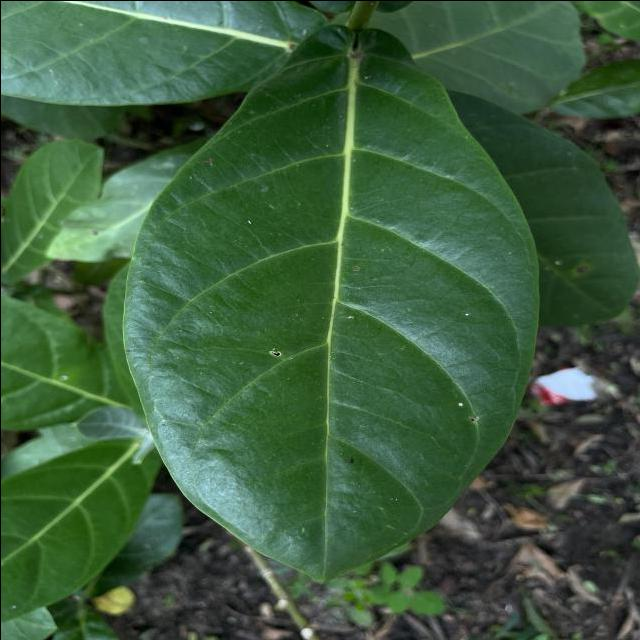Calotropis gigantea: (116, 18, 544, 592), (0, 430, 151, 624)
